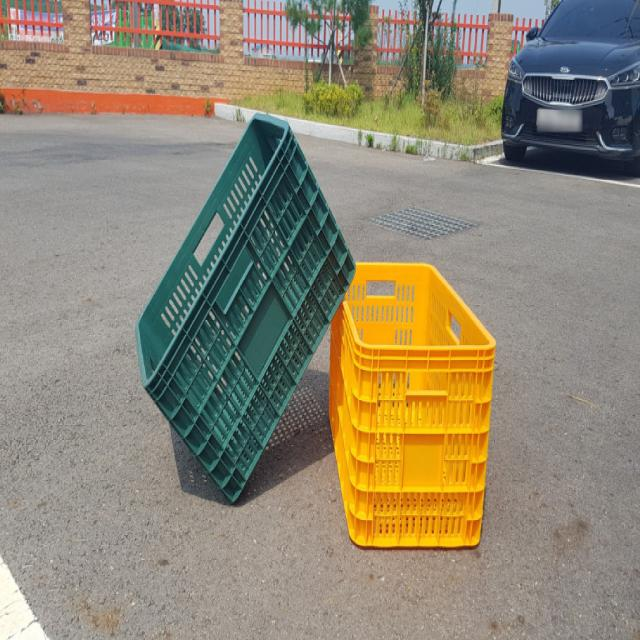basket: (83, 103, 405, 502), (324, 262, 498, 552)
